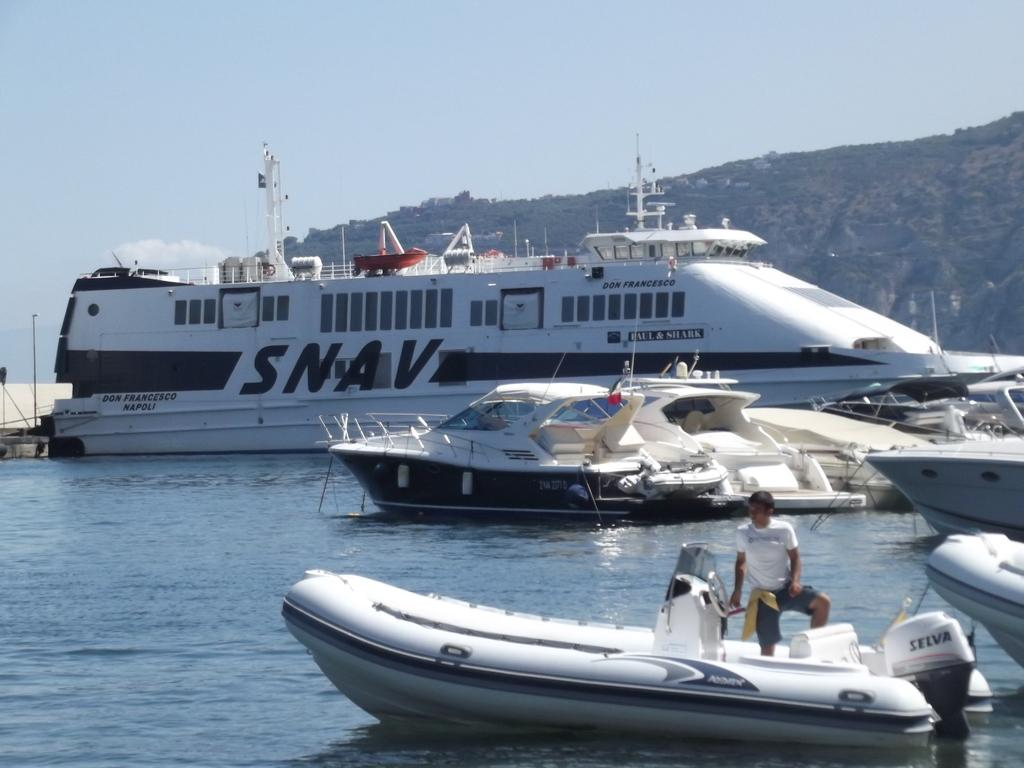PassengerShip: (28, 132, 992, 508)
